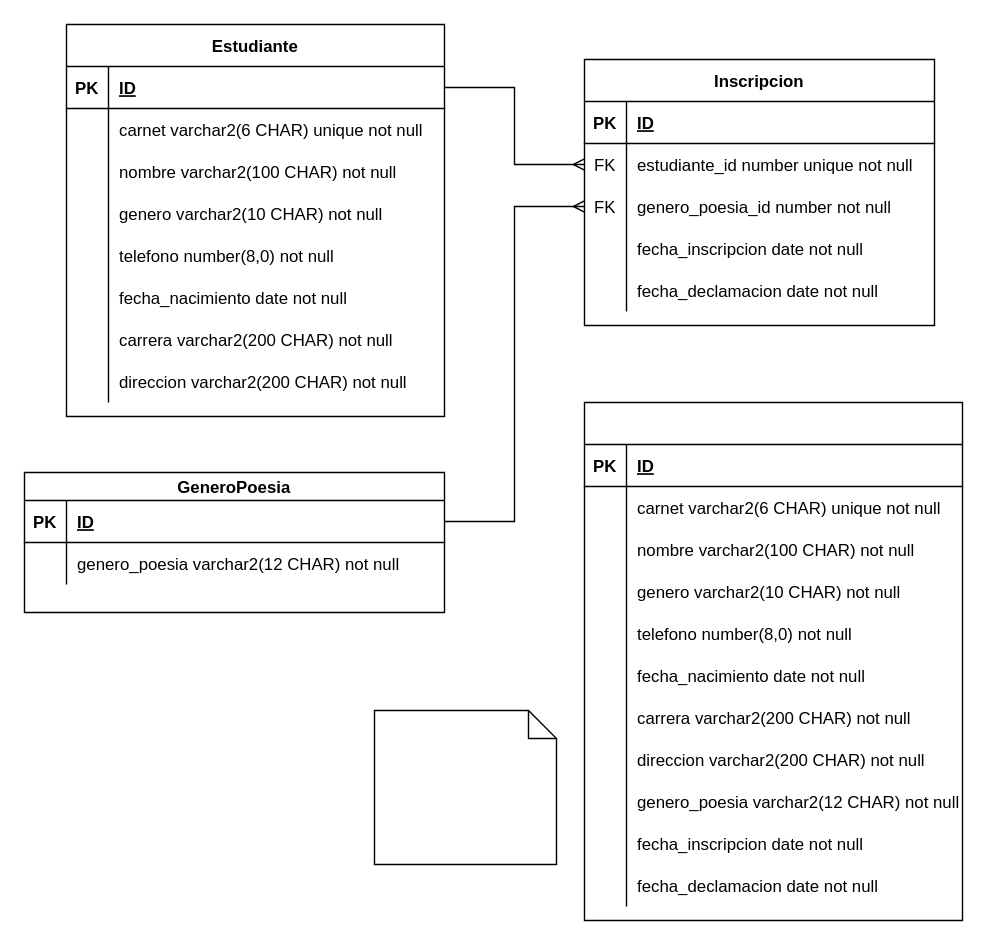
The diagram is 987 pixels wide and 945 high, and some of its shapes have lost their labels. The shapes that lost their labels are listed below. From the top down, each one's box as (x1, y1, x2, y2) in pixels, then its label:
(583, 401, 962, 920): InscripcionView
(373, 709, 556, 864): InscripcionView no es una vista per se sino una tabla dedicada a las lecturas.
